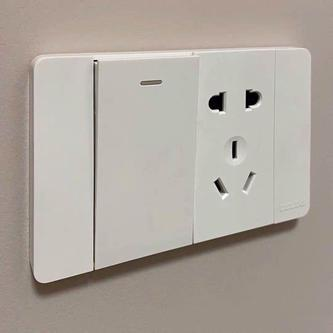switch: (95, 65, 196, 247)
